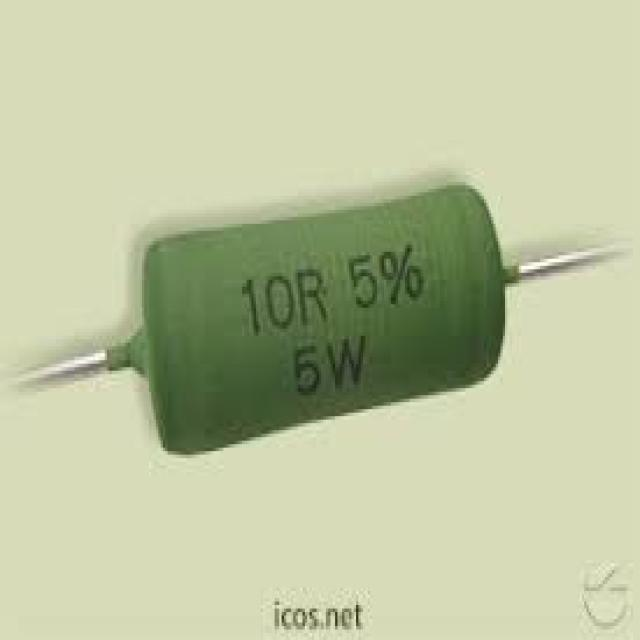Resistor: (88, 168, 524, 458)
